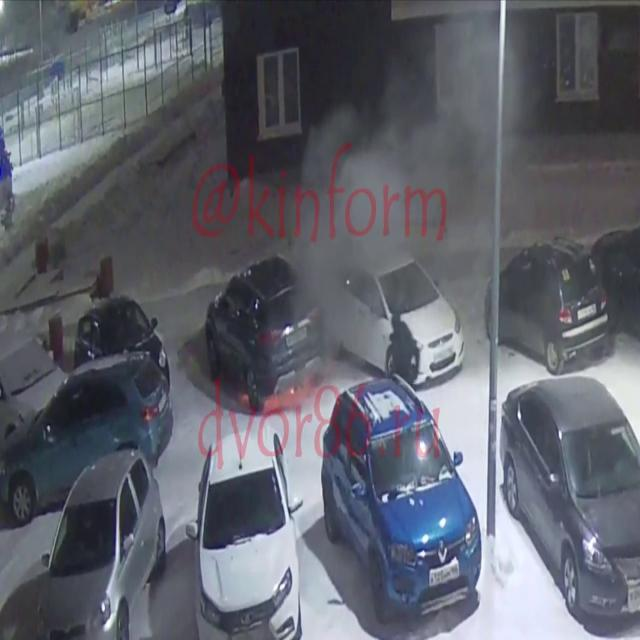Smoke: (268, 0, 636, 380)
